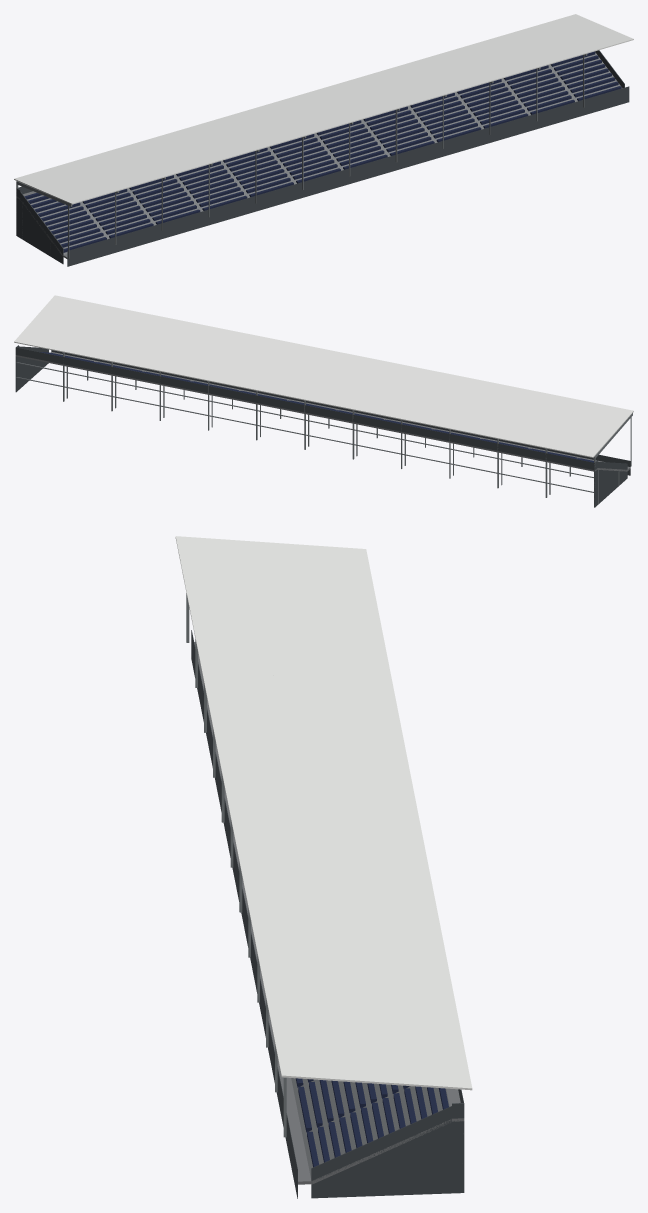
The model's file is sil_stand_national.glb.
3 views of the same model, one above another, from view 1: azimuth 30°, elevation 25°; view 2: azimuth 150°, elevation 25°; view 3: azimuth 270°, elevation 25° (orthographic). The views are drawn at different scales.
Parts seen in each view (by area): view 1: silverstone-national; view 2: silverstone-national; view 3: silverstone-national.
Boxes of the visible parts, <box> form: silverstone-national: <box>14,14,633,266</box>; silverstone-national: <box>14,295,633,507</box>; silverstone-national: <box>175,536,472,1198</box>.
Size of the model in its own units: 95.25 by 10.08 by 21.87.
